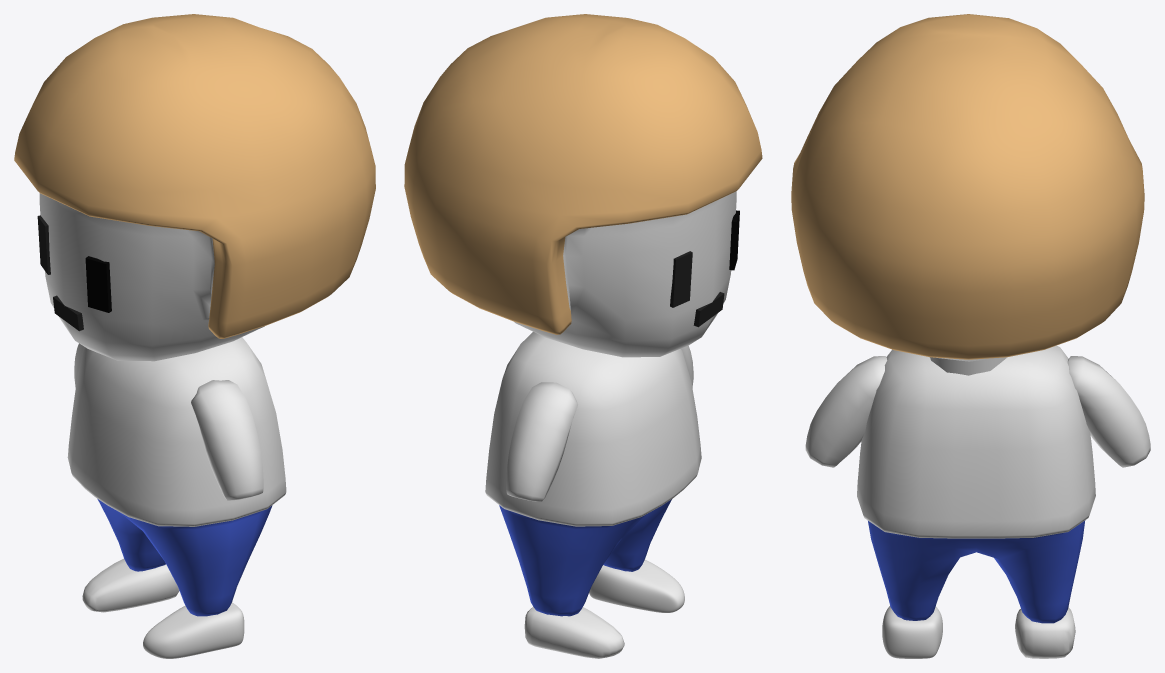
The model's file is dude.fbx.
3 views of the same model, side by side, from view 1: azimuth 30°, elevation 25°; view 2: azimuth 150°, elevation 25°; view 3: azimuth 270°, elevation 25° (orthographic). The views are drawn at different scales.
Visible parts, largest first — view 1: Sphere, Cube, Cube.003, Cube.002, Cube.001, Cube.005, Cube.006, Cube.007; view 2: Sphere, Cube, Cube.004, Cube.001, Cube.002, Cube.006; view 3: Sphere, Cube, Cube.004, Cube.003, Cube.002, Cube.001.
Boxes of the visible parts, box(x1,y1,x2,y2) form: Sphere: box(14, 14, 375, 361); Cube: box(67, 337, 286, 616); Cube.003: box(191, 380, 263, 500); Cube.002: box(143, 602, 244, 658); Cube.001: box(82, 558, 179, 612); Cube.005: box(85, 256, 111, 312); Cube.006: box(37, 215, 50, 274); Cube.007: box(53, 295, 83, 331); Sphere: box(404, 14, 762, 357); Cube: box(485, 332, 701, 616); Cube.004: box(506, 382, 577, 501); Cube.001: box(524, 607, 624, 658); Cube.002: box(589, 559, 684, 612); Cube.006: box(670, 251, 692, 307); Sphere: box(791, 14, 1144, 375); Cube: box(857, 345, 1095, 623); Cube.004: box(1067, 356, 1150, 467); Cube.003: box(805, 356, 887, 467); Cube.002: box(882, 606, 942, 658); Cube.001: box(1015, 607, 1075, 658).
Size of the model in its own units: 346 by 618 by 331.
